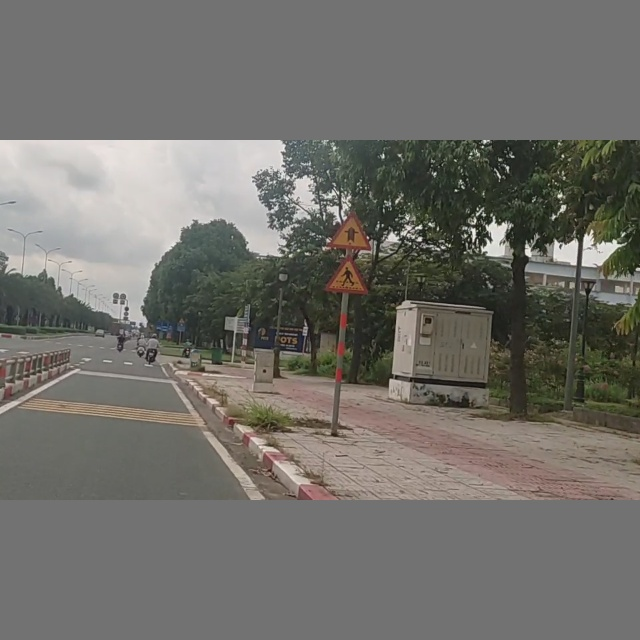W.207: (329, 211, 372, 251)
W.224: (325, 255, 370, 295)
